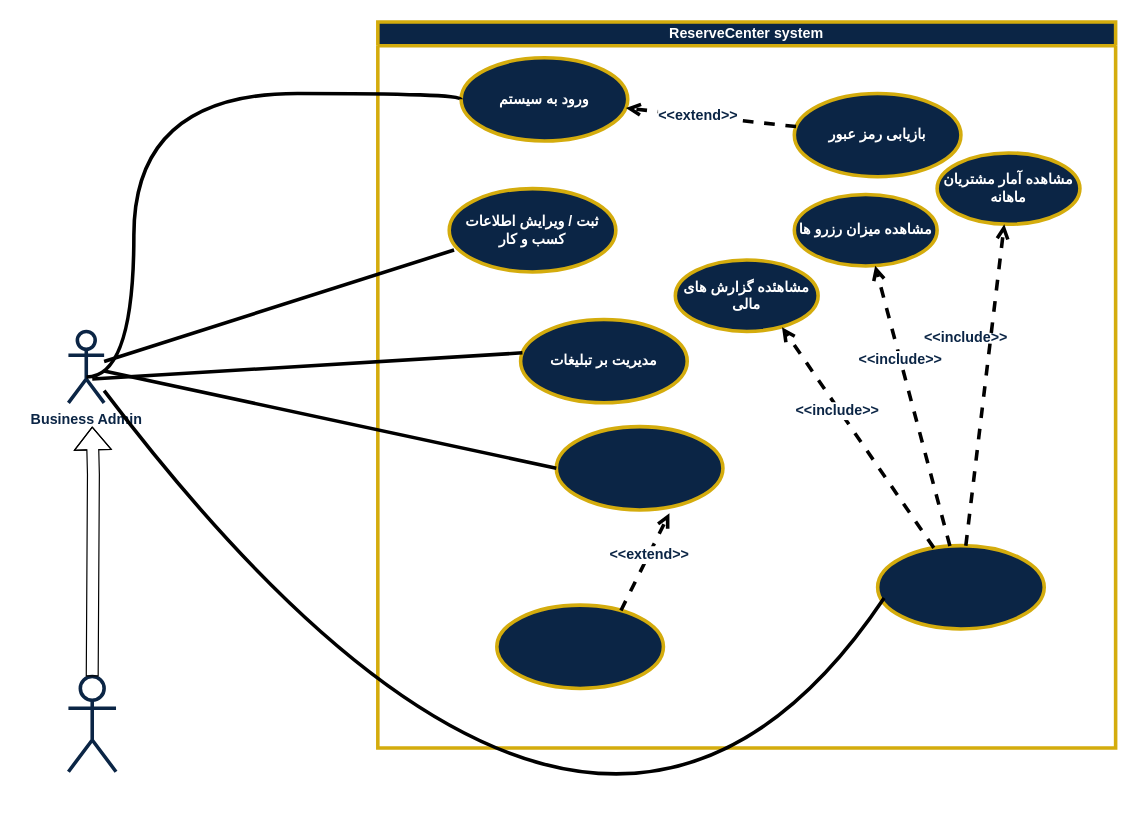
This 1138x818 diagram has some shape labels left out. The shapes that lost their labels are listed below. From the top down, each one's box as (x1, y1, x2, y2) in pixels, then its label:
(554, 424, 724, 511): مشاهده لیست کارکنان
(875, 543, 1045, 630): گزارش گیری عملکرد
(494, 603, 665, 690): حذف/ویرایش/ثبت کارمند
(66, 674, 117, 773): Organization Support
